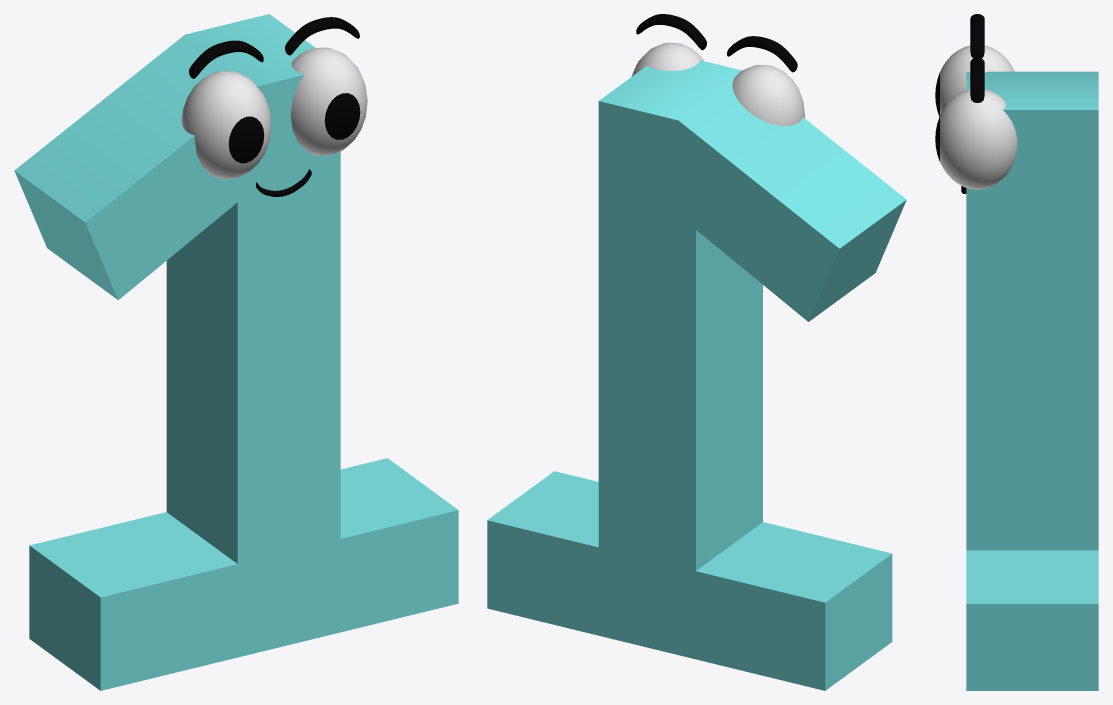
Rendered from one.fbx.
3 views of the same model, side by side, from view 1: azimuth 30°, elevation 25°; view 2: azimuth 150°, elevation 25°; view 3: azimuth 270°, elevation 25° (orthographic). The views are drawn at different scales.
Parts seen in each view (by area): view 1: oneMeshShape; view 2: oneMeshShape; view 3: oneMeshShape.
Boxes of the visible parts, box(x1,y1,x2,y2) form: oneMeshShape: box(14, 14, 458, 690); oneMeshShape: box(487, 14, 906, 690); oneMeshShape: box(935, 14, 1098, 690).
Bounding box in the file's own units: 3.04 × 4.76 × 1.24.
